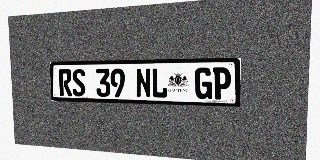3: (96, 68, 110, 97)
9: (110, 68, 125, 97)
G: (195, 67, 212, 99)
L: (151, 68, 167, 98)
N: (135, 68, 151, 98)
P: (213, 67, 231, 100)
R: (59, 69, 72, 96)
S: (72, 69, 86, 96)
